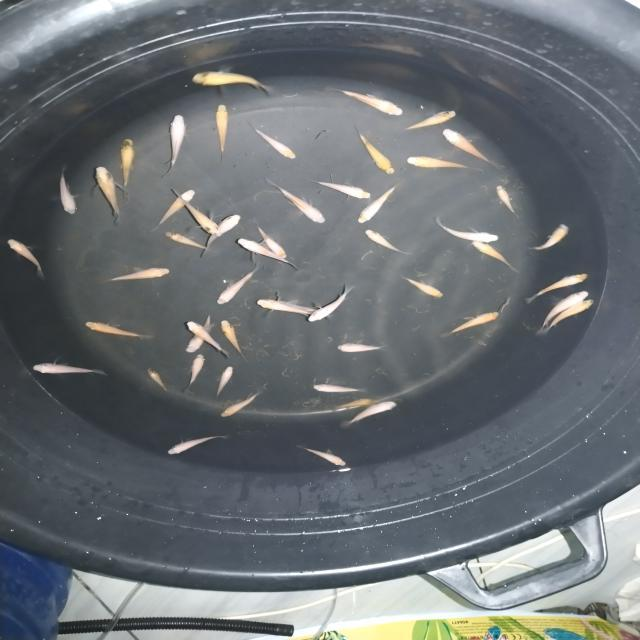nila: (347, 120, 397, 176), (265, 181, 326, 226), (330, 84, 407, 119), (534, 290, 592, 335), (520, 270, 594, 304), (173, 186, 220, 238), (147, 190, 199, 234), (198, 214, 245, 260), (440, 126, 494, 166), (434, 214, 501, 246), (183, 69, 270, 93), (86, 166, 125, 218), (544, 299, 596, 337), (432, 313, 503, 340), (356, 183, 400, 224), (235, 238, 292, 269), (307, 285, 352, 324), (251, 125, 297, 163), (46, 172, 82, 220), (29, 360, 106, 382), (404, 149, 480, 171), (2, 238, 46, 276), (268, 296, 332, 322), (345, 402, 403, 430), (466, 240, 516, 272), (179, 321, 226, 355), (78, 318, 150, 340), (112, 137, 140, 193), (400, 106, 459, 132), (178, 314, 214, 356), (167, 433, 230, 457), (396, 272, 446, 301), (164, 112, 188, 172), (160, 232, 213, 258), (216, 270, 256, 304), (102, 267, 172, 286), (216, 392, 263, 420), (256, 222, 290, 260), (290, 444, 346, 467), (533, 220, 572, 253), (251, 299, 309, 321), (360, 230, 408, 256), (212, 100, 232, 160), (315, 178, 369, 200), (217, 319, 246, 357), (182, 354, 205, 393), (212, 363, 234, 400), (491, 183, 516, 215), (330, 400, 376, 414), (142, 369, 168, 391), (311, 384, 368, 394), (331, 344, 387, 354)
